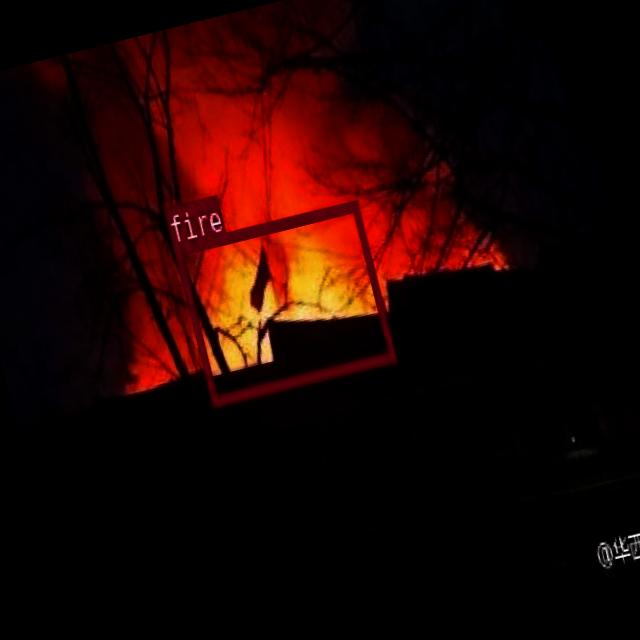fire: (172, 198, 395, 404)
